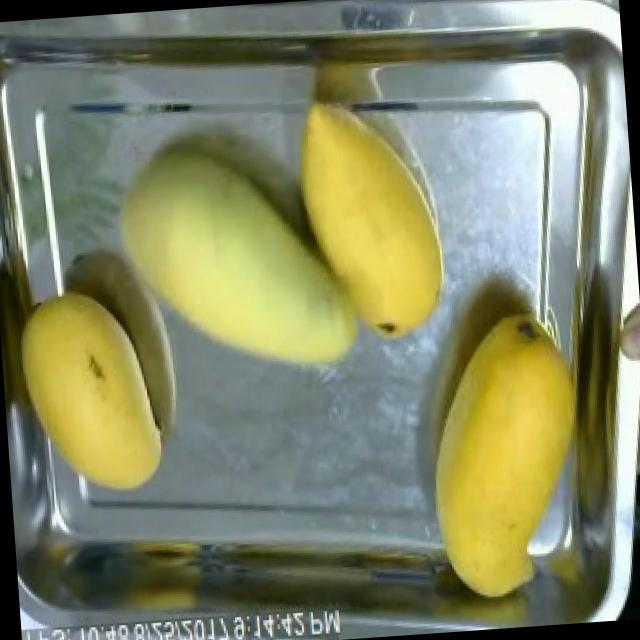fruit: (395, 285, 633, 629), (99, 118, 388, 392), (276, 75, 474, 366), (3, 274, 176, 508)
